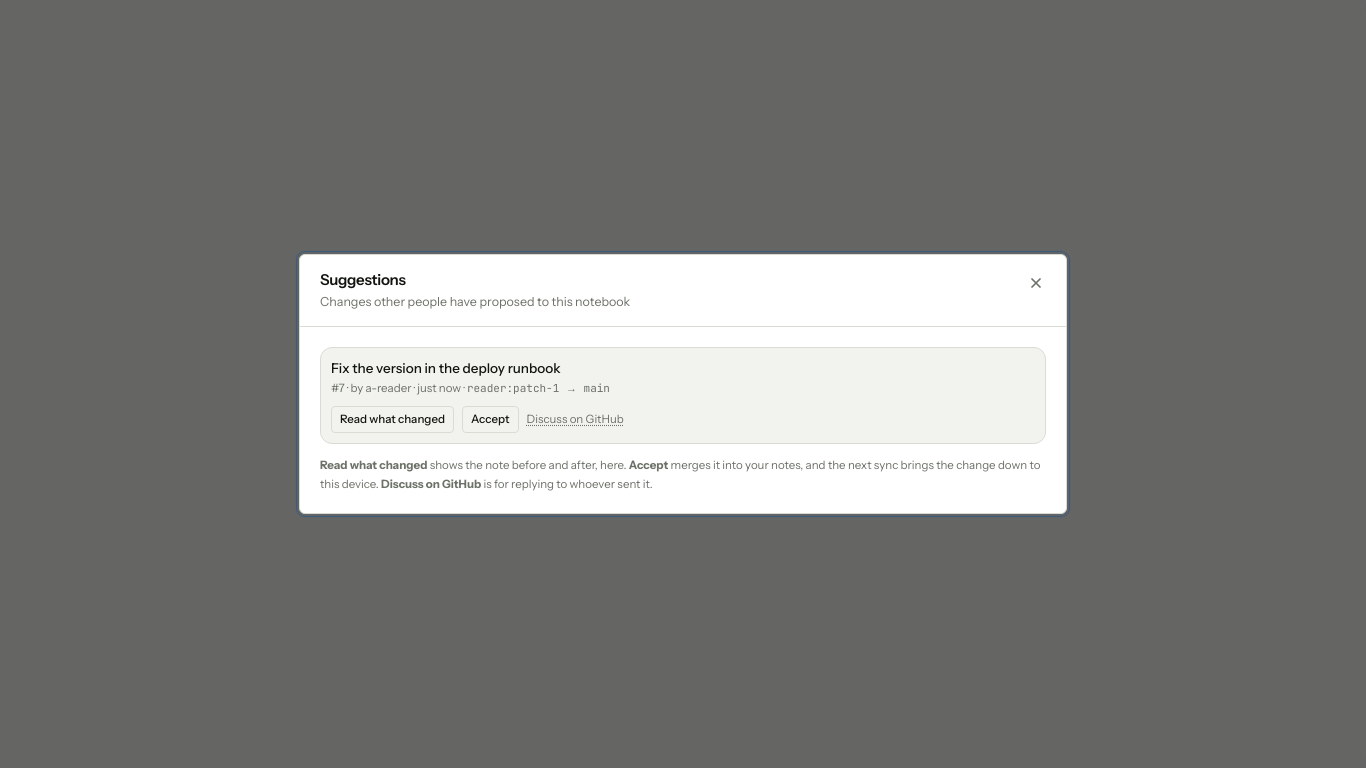
Test case: SuggestionsDialog — accepting one › merges it, and tells the notebook to catch up
This screenshot has width=1366, height=768.
Click the button "Accept" at (490, 419), box [462,406,518,433]
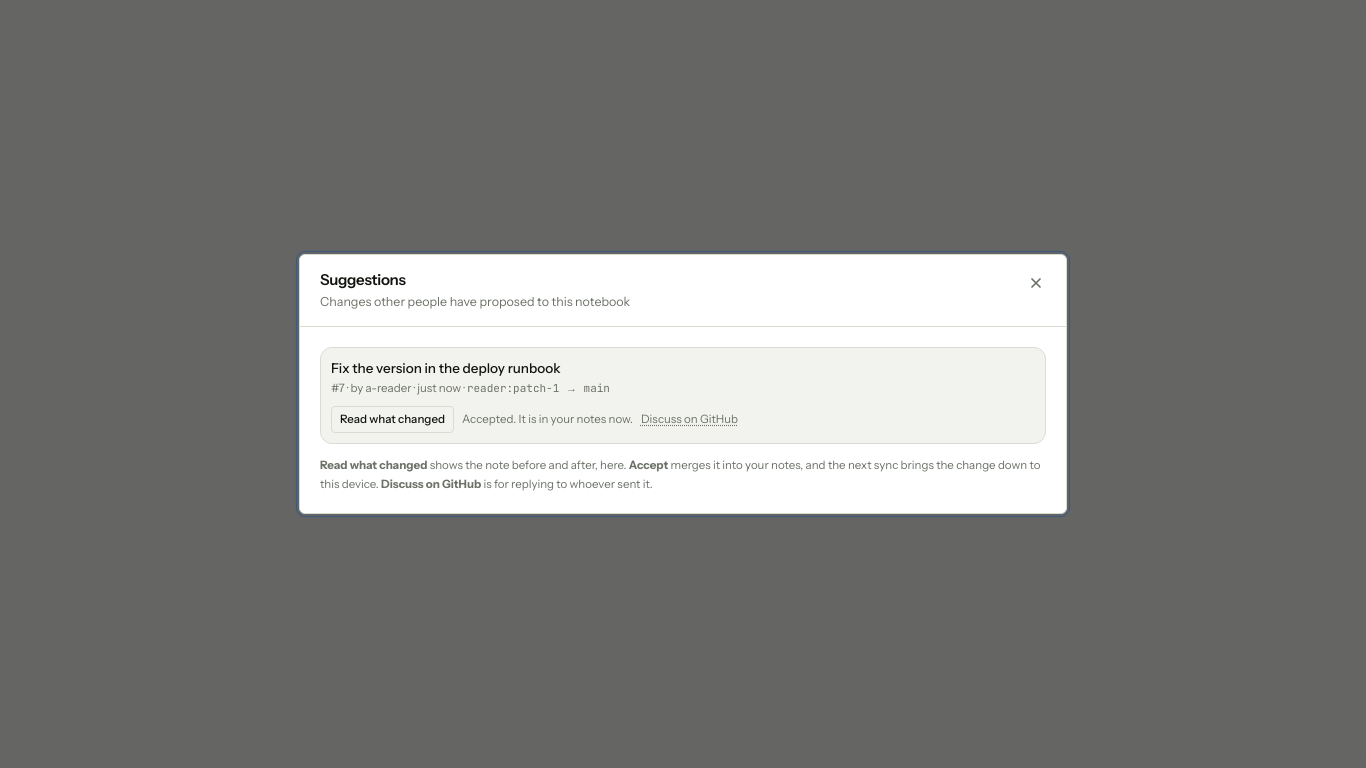
Expected: the text "Accepted. It is in your notes now." is shown, [462,411,633,428]
